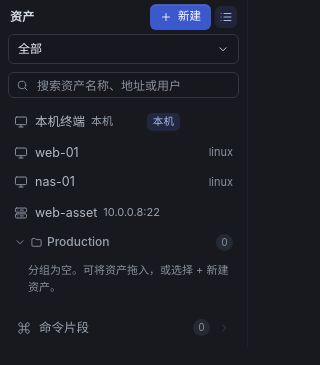
Scenario: Asset tree device rows - two-step revoke confirmation › revokes only after both warnings are confirmed and removes the row immediately
Step 1. Right-click the list item "web-01 linux" → coordinates (57, 152), box [14,145,233,160]
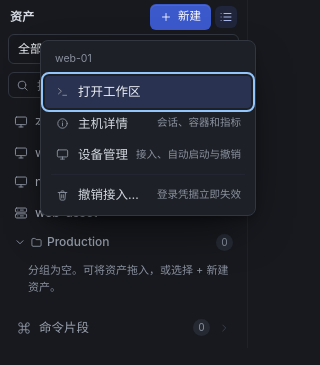
Step 2. Click the menu item with class "nx-menu-item" showing "撤销接入… 登录凭据立即失效" → coordinates (148, 195), box [45,179,251,211]
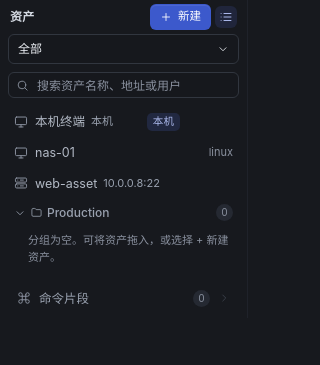
expect the element named "资产" shows "nas-01": met, box [35,145,75,160]
expect the text "web-01" is gone: met
